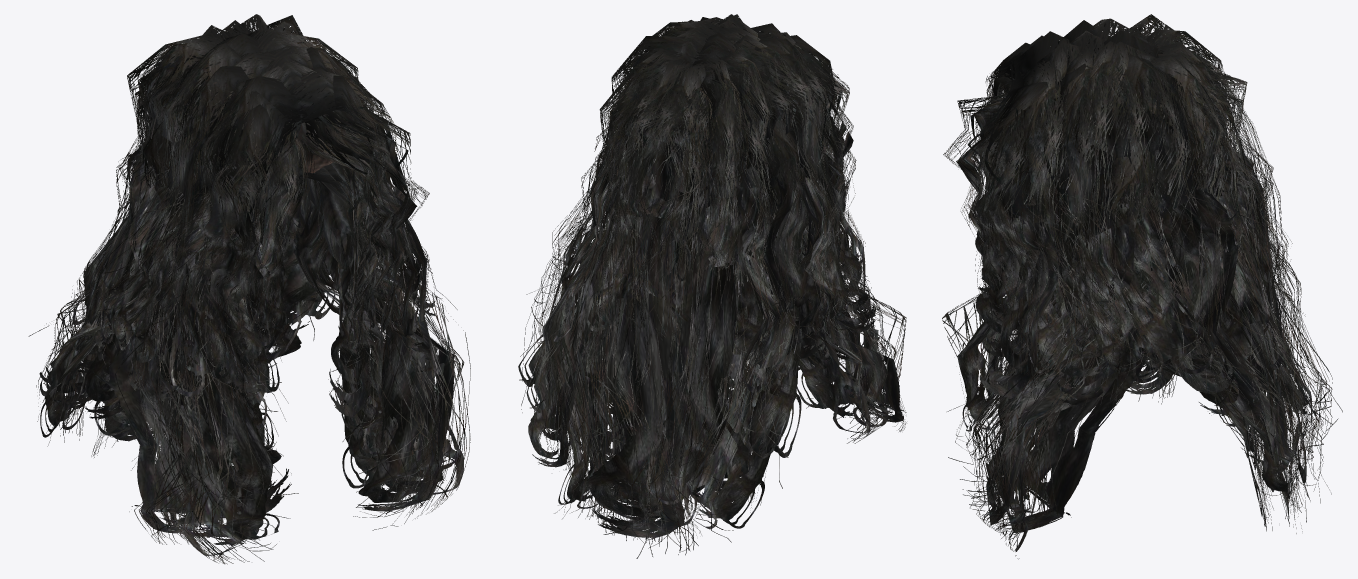
File: mh_punkduck_alpha7_curly2.glb
3 views of the same model, side by side, from view 1: azimuth 30°, elevation 25°; view 2: azimuth 150°, elevation 25°; view 3: azimuth 270°, elevation 25° (orthographic). The views are drawn at different scales.
Visible parts, largest first — view 1: mh_punkduck_alpha7_curly2; view 2: mh_punkduck_alpha7_curly2; view 3: mh_punkduck_alpha7_curly2.
Boxes of the visible parts, bbox=[...] form: mh_punkduck_alpha7_curly2: bbox=[28, 14, 470, 564]; mh_punkduck_alpha7_curly2: bbox=[518, 14, 906, 558]; mh_punkduck_alpha7_curly2: bbox=[942, 14, 1342, 559].
Size of the model in its own units: 0.402 by 0.5346 by 0.4047.
1 material, 1 textured.
